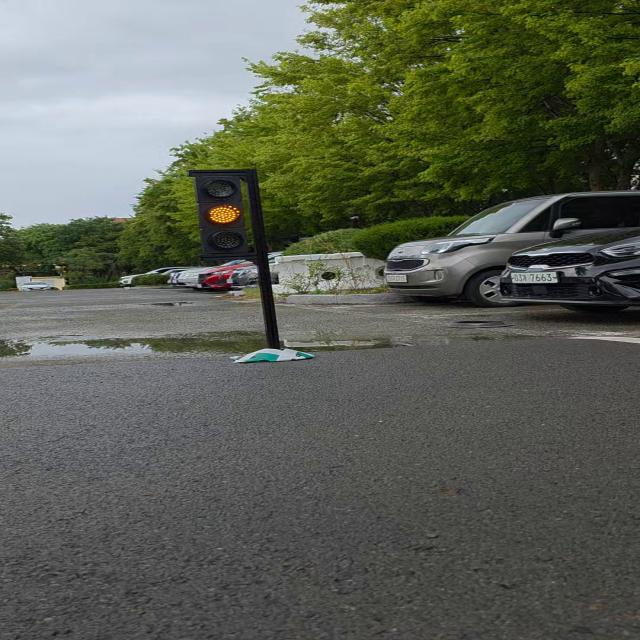yellow: (192, 174, 248, 259)
